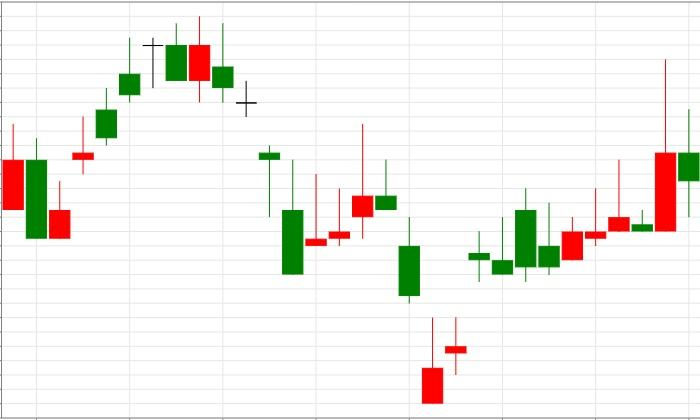shooting_star_fall: (281, 124, 397, 275)
